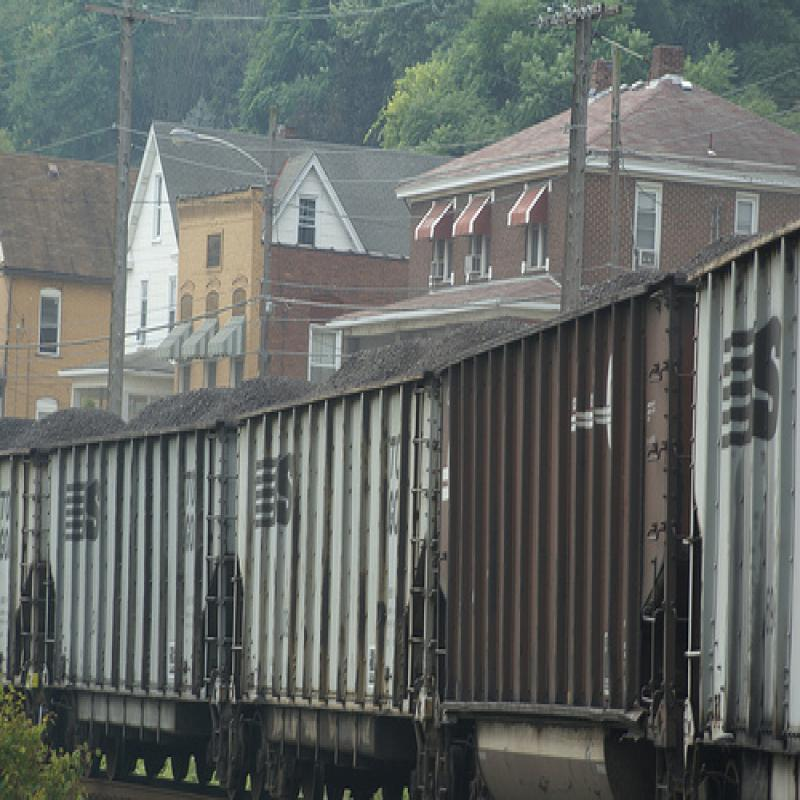train: (1, 214, 799, 798)
